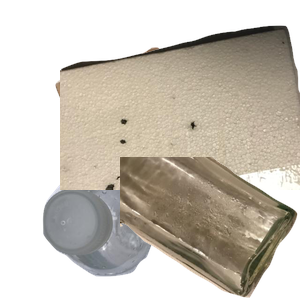cardboard: (53, 45, 221, 204)
glass: (120, 157, 300, 300)
plastic: (40, 170, 187, 300)
trash: (60, 23, 300, 203)
